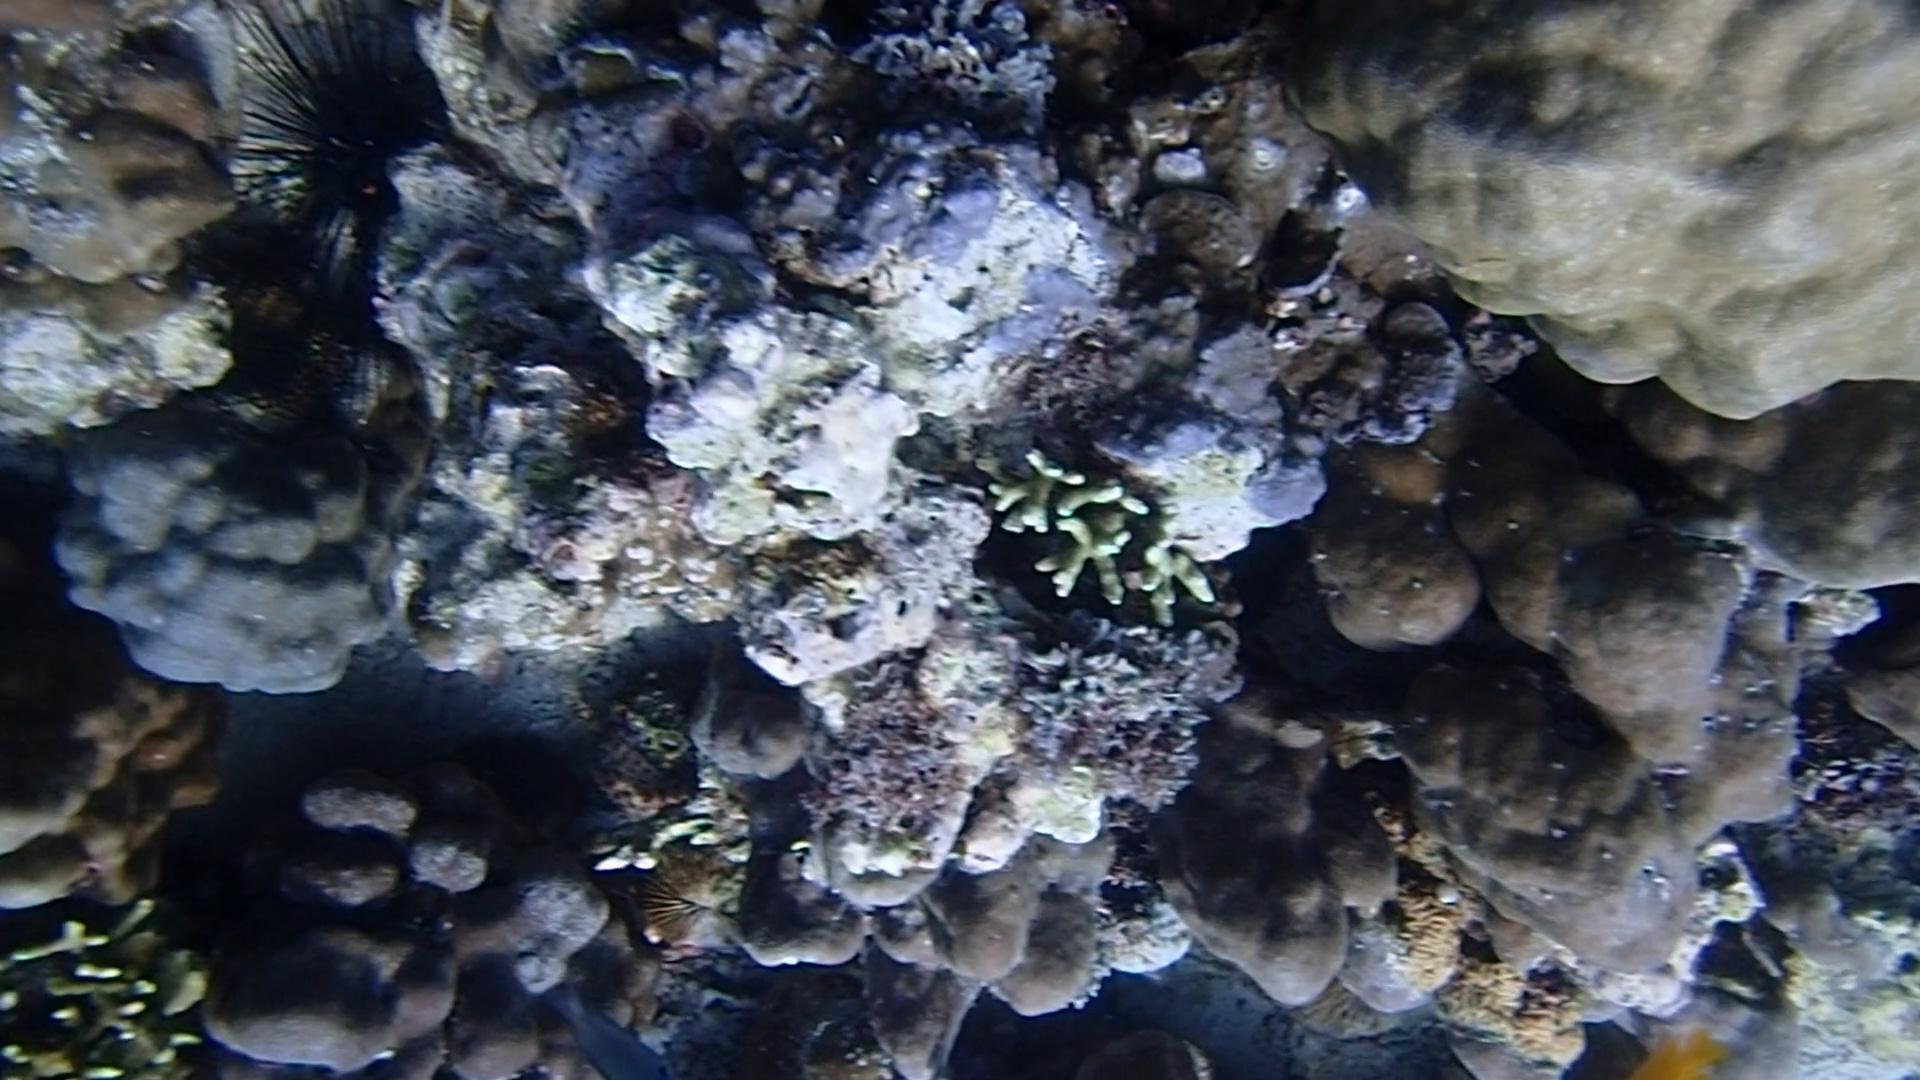Blue Fish Two: (537, 980, 679, 1080)
Yellow Fish: (1609, 1021, 1722, 1080)
